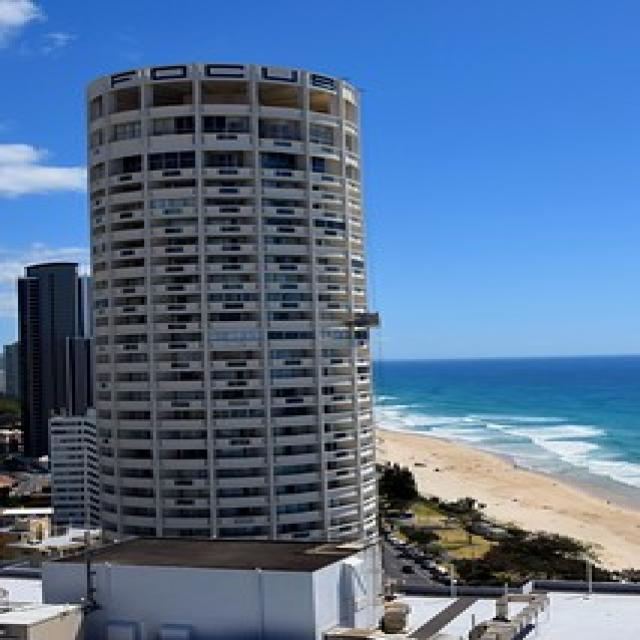building: (68, 61, 401, 637)
